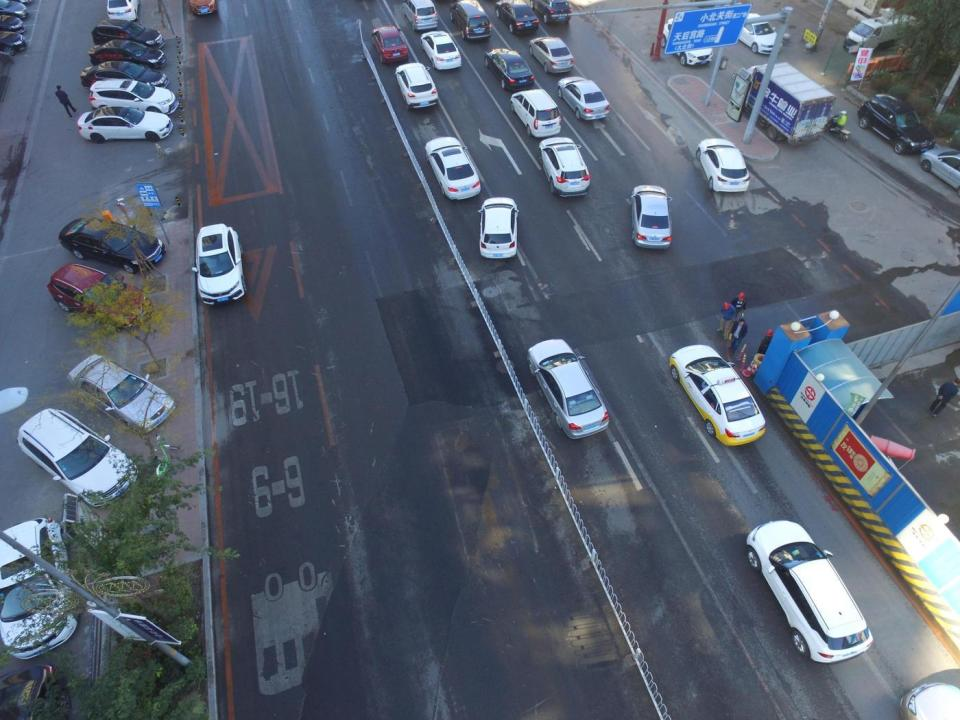car: (747, 521, 877, 663), (16, 412, 140, 508), (2, 517, 84, 660), (668, 345, 766, 448), (527, 336, 610, 441), (66, 359, 179, 432), (43, 261, 151, 333), (60, 215, 164, 272), (855, 93, 935, 162), (190, 223, 251, 304), (422, 134, 482, 200), (619, 180, 675, 249), (74, 106, 173, 144), (692, 134, 753, 194), (538, 135, 591, 200), (88, 79, 179, 116), (726, 2, 786, 58), (658, 15, 718, 68), (476, 196, 520, 261), (80, 62, 168, 94), (560, 72, 611, 126), (88, 20, 164, 55), (89, 43, 167, 74), (393, 62, 437, 109), (485, 49, 535, 90), (525, 35, 576, 73), (420, 31, 460, 72), (498, 0, 542, 36), (371, 25, 407, 62), (530, 0, 576, 27)
truck: (737, 60, 831, 152), (846, 8, 918, 56)
van: (510, 86, 564, 140), (448, 1, 499, 44), (400, 0, 439, 30)
